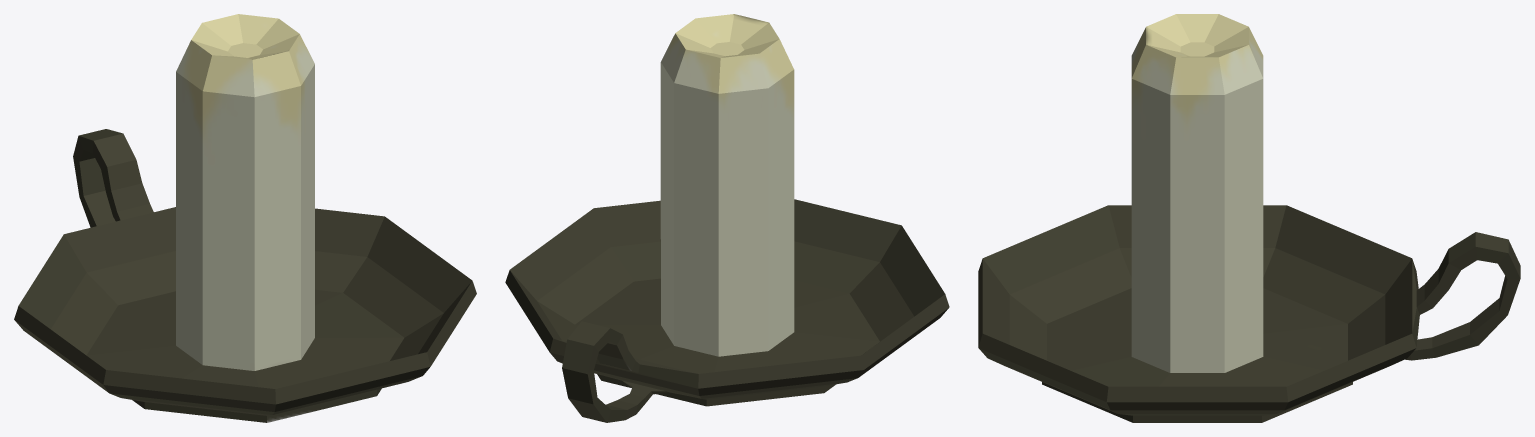
Rendered from Vela.fbx.
3 renders of one model, left to right at view 1: azimuth 30°, elevation 25°; view 2: azimuth 150°, elevation 25°; view 3: azimuth 270°, elevation 25°, orthographic. The views are drawn at different scales.
Parts seen in each view (by area): view 1: Vela; view 2: Vela; view 3: Vela.
Boxes of the visible parts, x1,y1,x2,y2 form: Vela: [14, 14, 476, 422]; Vela: [505, 14, 949, 422]; Vela: [978, 14, 1520, 422].
Bounding box in the file's own units: 36.93 × 29.9 × 45.7.
